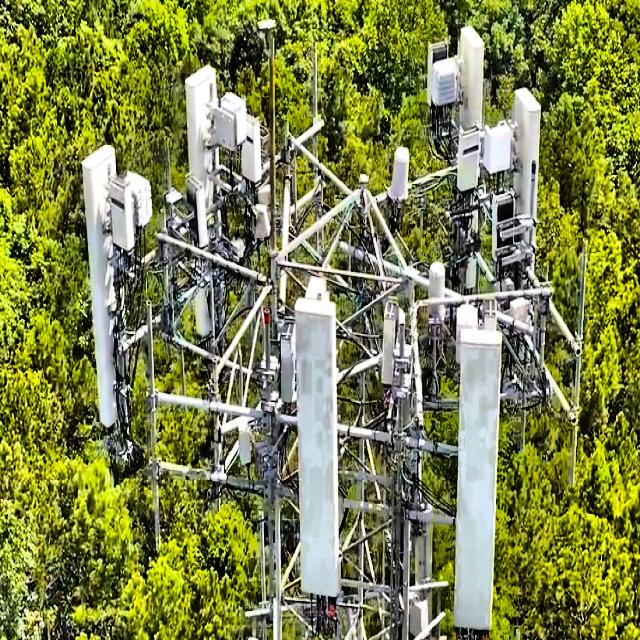antenna: (454, 328, 501, 639), (295, 276, 339, 596), (82, 145, 117, 427), (185, 65, 217, 247), (512, 88, 540, 248), (457, 26, 483, 190)
